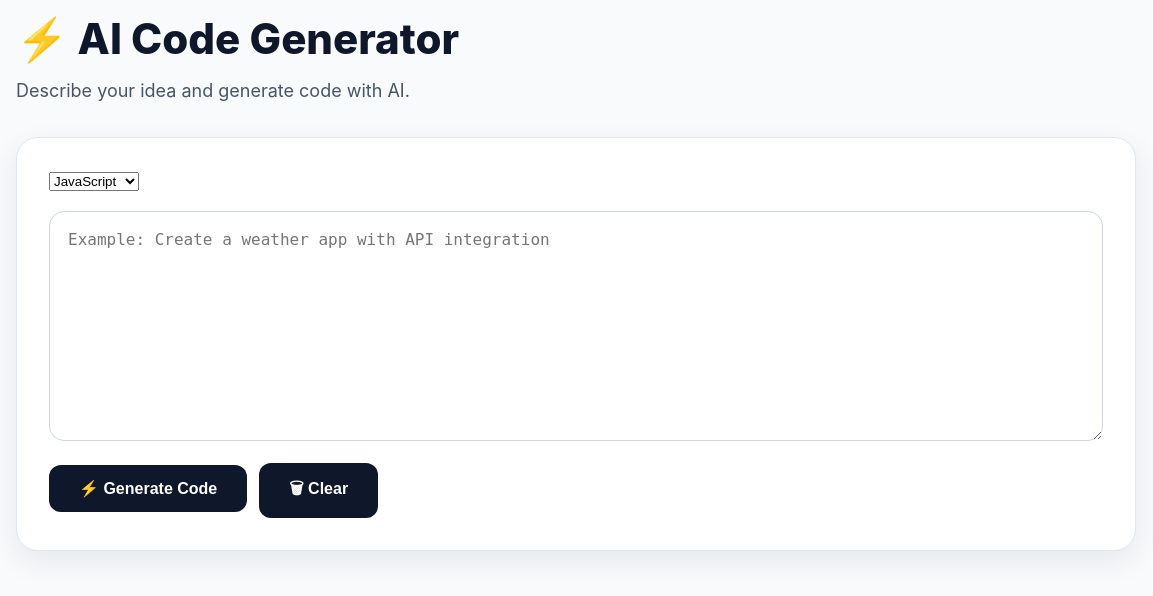
Test case: CodeGenerator Component › should show error when idea is empty
Click the button "⚡ Generate Code".
click(148, 488)  # box x1=49 y1=465 x2=247 y2=512
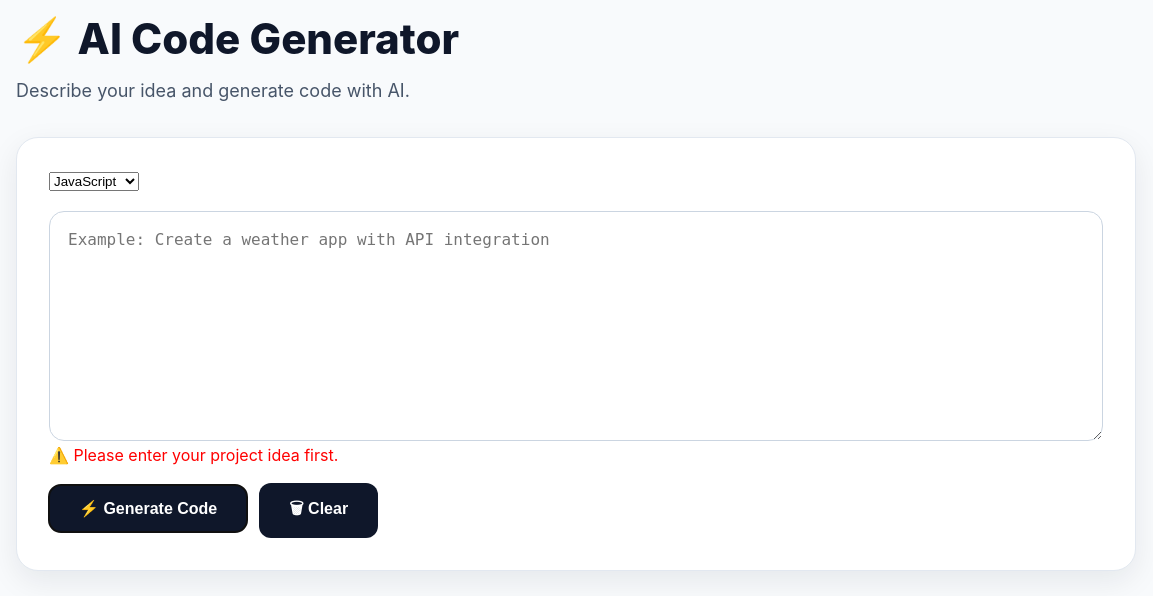
Result: the text "⚠️ Please enter your project idea first." is shown at x1=49 y1=445 x2=338 y2=465
